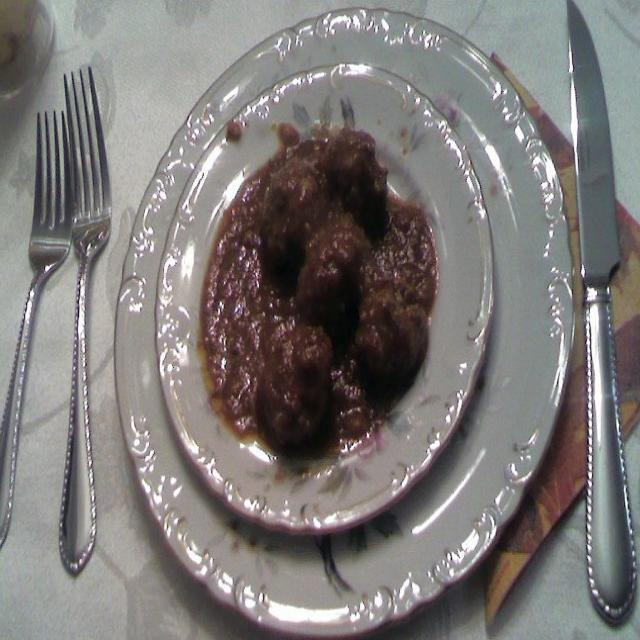Knife: (569, 1, 636, 618)
